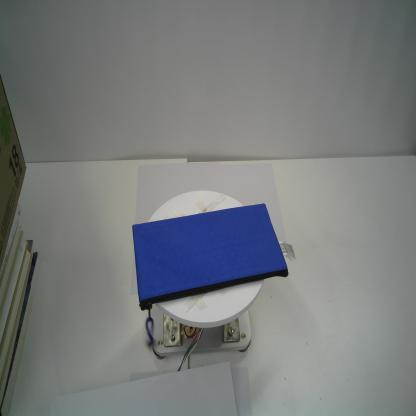Stationery: (132, 202, 289, 353)
